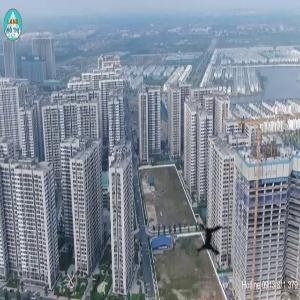drone: (172, 199, 251, 278)
